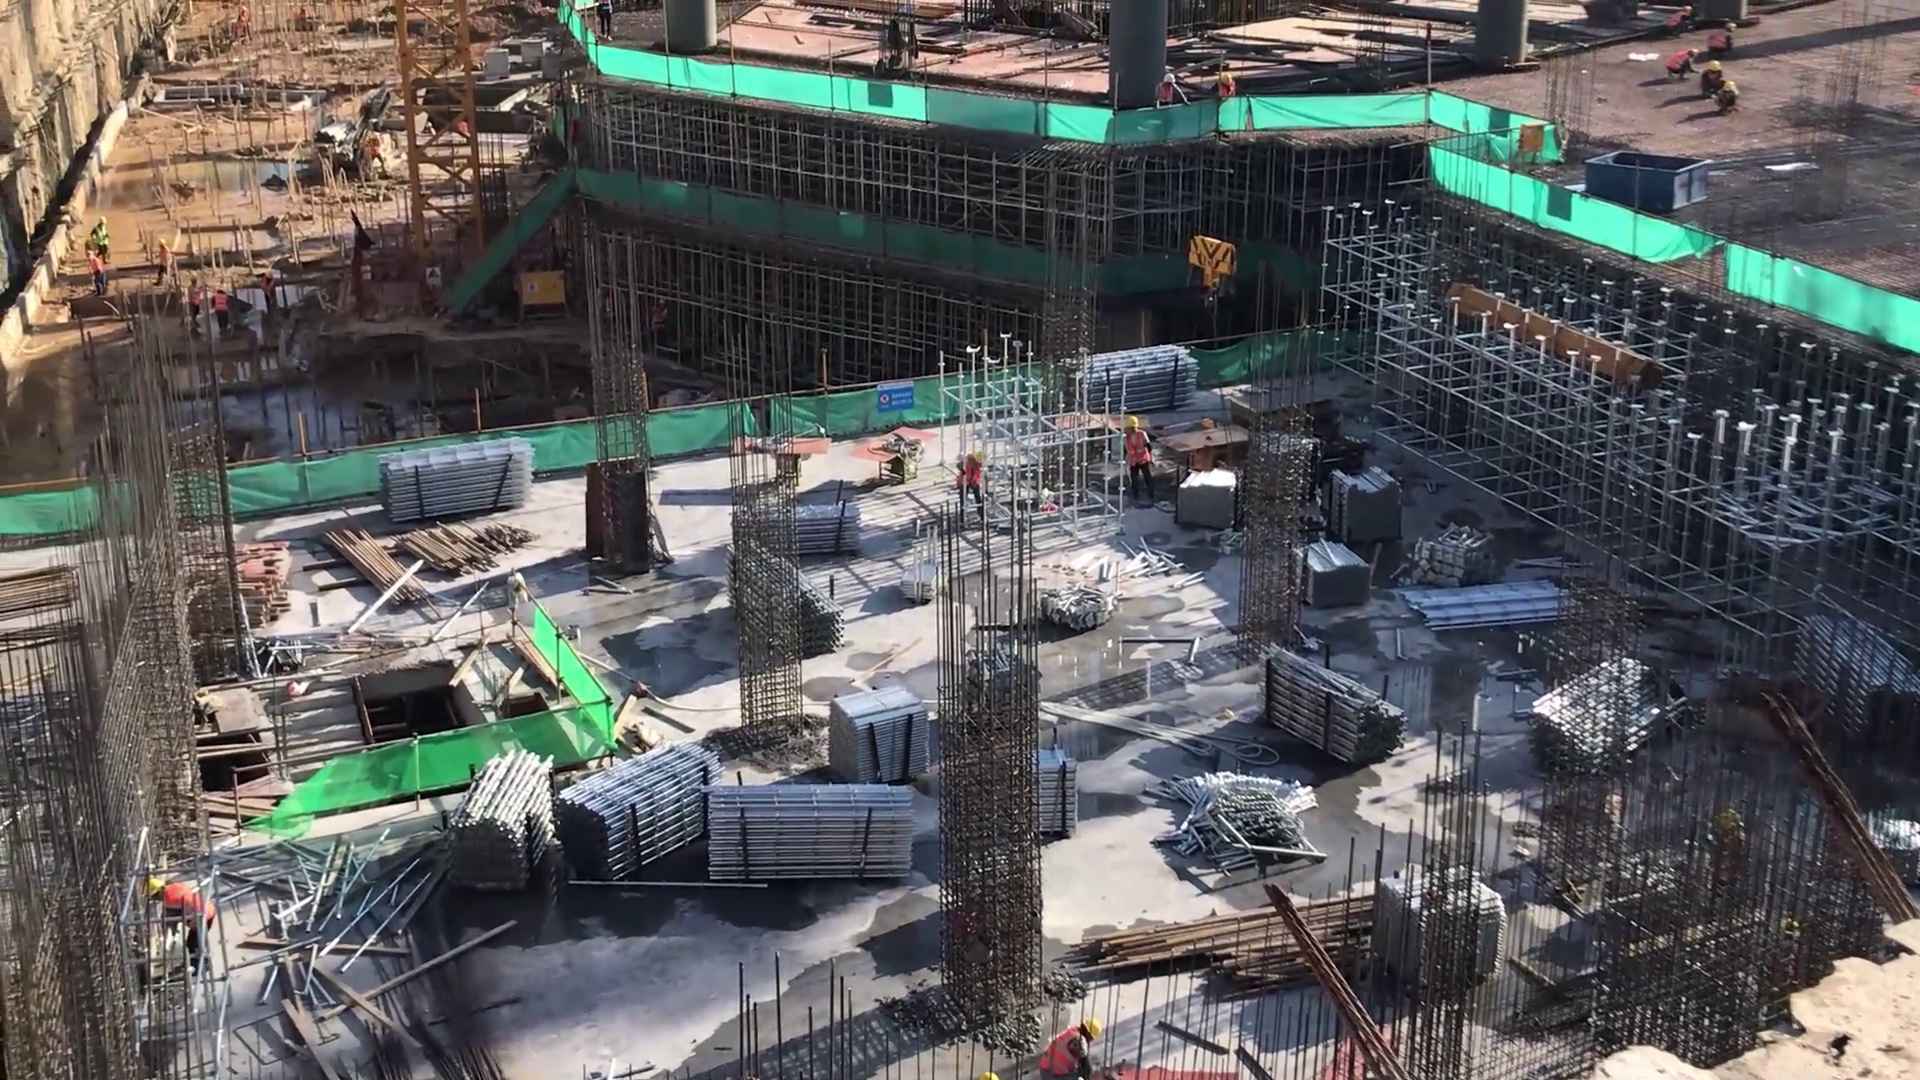cutter: (849, 422, 938, 486), (733, 434, 834, 486)
ebox: (510, 262, 576, 336)
helmet: (1077, 1013, 1105, 1039), (142, 875, 166, 902), (967, 441, 987, 469), (1123, 413, 1141, 435)
hook: (1174, 217, 1241, 319)
hopper: (1576, 143, 1722, 217)
person: (136, 872, 222, 984), (1031, 1015, 1107, 1080), (1116, 408, 1159, 500), (952, 440, 994, 522)
scaffold: (698, 775, 924, 894), (555, 735, 724, 889), (434, 741, 574, 907), (1252, 630, 1406, 770), (371, 426, 544, 538), (823, 680, 940, 791), (1076, 341, 1208, 414), (1327, 459, 1415, 567), (1285, 535, 1379, 612), (784, 485, 876, 562), (1168, 462, 1248, 539)
vest: (160, 878, 218, 936), (1039, 1025, 1083, 1080), (1123, 433, 1153, 475), (954, 461, 988, 490)
